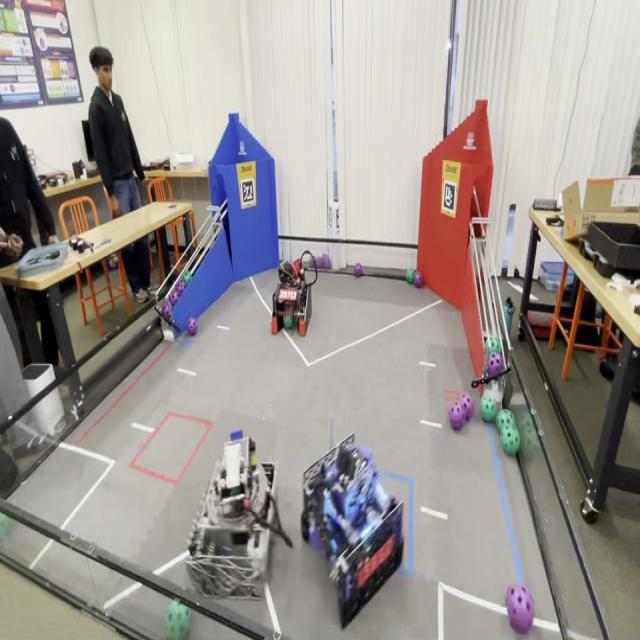artifact_green: (166, 600, 191, 639), (520, 420, 540, 458), (500, 426, 520, 456), (480, 394, 497, 423), (496, 409, 515, 432), (517, 409, 535, 433), (0, 514, 13, 542), (486, 336, 501, 356), (283, 314, 295, 330), (414, 271, 423, 289), (406, 268, 415, 284), (182, 271, 192, 285), (354, 262, 363, 277)
artifact_purple: (506, 585, 534, 634), (449, 402, 466, 431), (458, 393, 474, 420), (488, 352, 504, 376), (162, 299, 171, 321), (187, 318, 197, 336), (170, 290, 179, 308), (176, 280, 186, 296), (414, 271, 423, 287), (310, 255, 320, 269), (320, 254, 329, 269), (354, 262, 362, 277), (324, 255, 331, 270)
